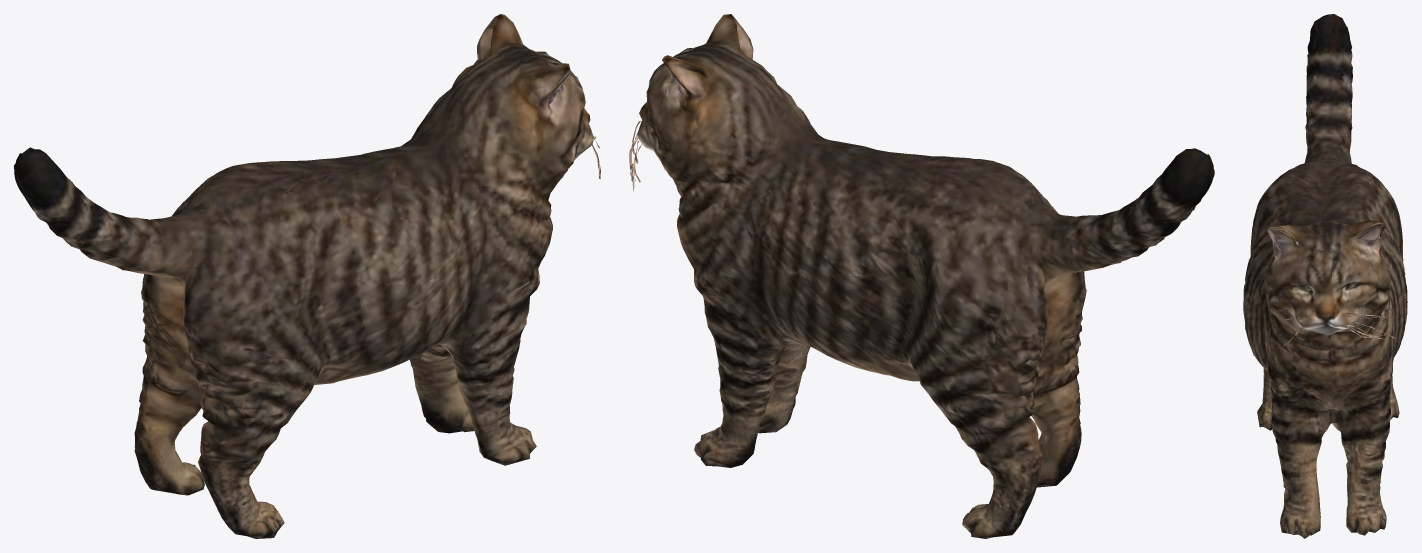
Rendered from FISHTOPH-lo.glb.
3 renders of one model, left to right at view 1: azimuth 30°, elevation 25°; view 2: azimuth 150°, elevation 25°; view 3: azimuth 270°, elevation 25°, orthographic. The views are drawn at different scales.
Visible parts, largest first — view 1: tripo_node_34c3178d-e2e1-4181-8dc9-c28208cf177d; view 2: tripo_node_34c3178d-e2e1-4181-8dc9-c28208cf177d; view 3: tripo_node_34c3178d-e2e1-4181-8dc9-c28208cf177d.
Part boxes in pixels (x1,y1,x2,y2): tripo_node_34c3178d-e2e1-4181-8dc9-c28208cf177d: (14,14,600,538); tripo_node_34c3178d-e2e1-4181-8dc9-c28208cf177d: (629,14,1214,538); tripo_node_34c3178d-e2e1-4181-8dc9-c28208cf177d: (1243,14,1407,538).
Bounding box in the file's own units: 1.46 × 0.9982 × 0.4448.
1 material, 1 textured.
